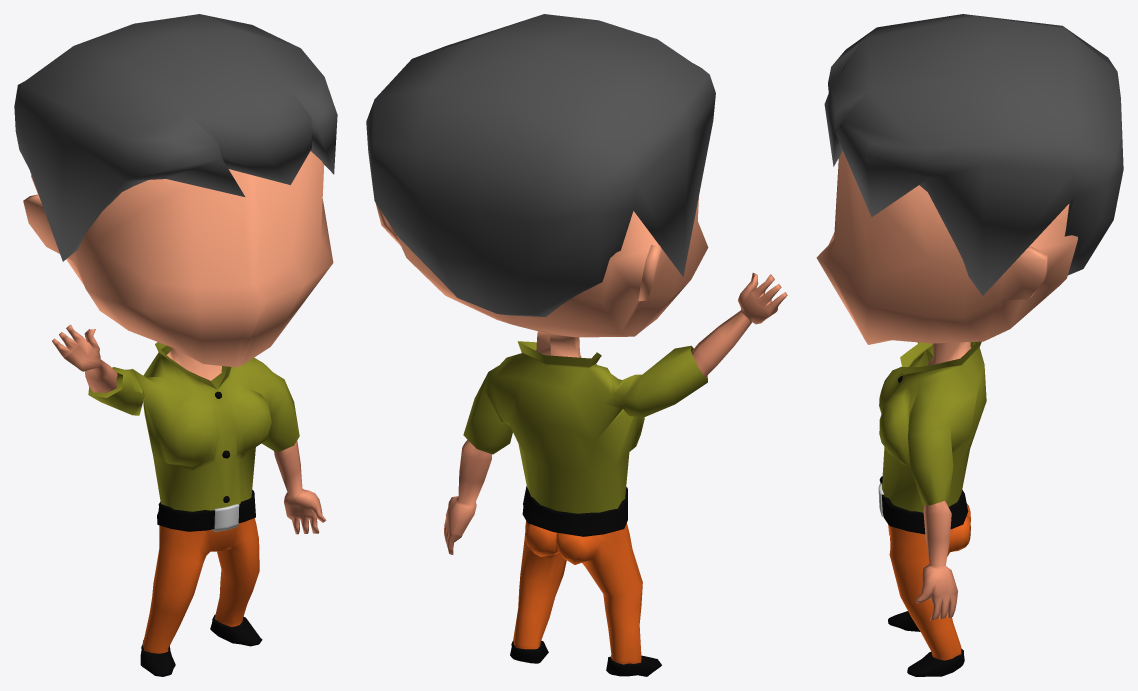
File: Female NPC -green shirt,orange pants.FBX
3 views of the same model, side by side, from view 1: azimuth 30°, elevation 25°; view 2: azimuth 150°, elevation 25°; view 3: azimuth 270°, elevation 25° (orthographic). The views are drawn at different scales.
Visible parts, largest first — view 1: Group003; view 2: Group003; view 3: Group003.
Boxes of the visible parts, <box> form: Group003: <box>14,14,337,676</box>; Group003: <box>366,14,787,676</box>; Group003: <box>816,14,1123,676</box>.
Bounding box in the file's own units: 98.79 × 83.47 × 184.
